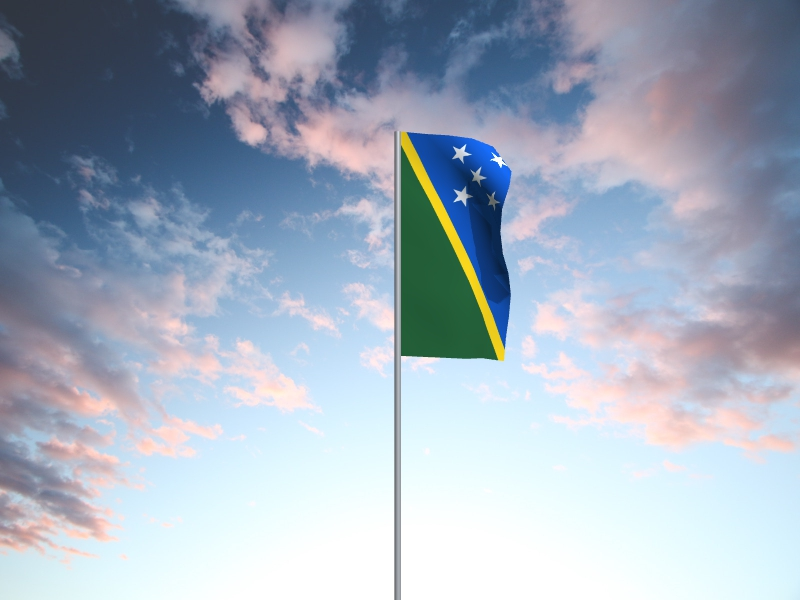sb: (402, 132, 513, 362)
